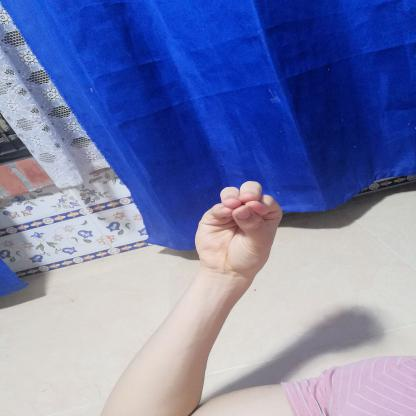HA: (181, 171, 291, 288)
